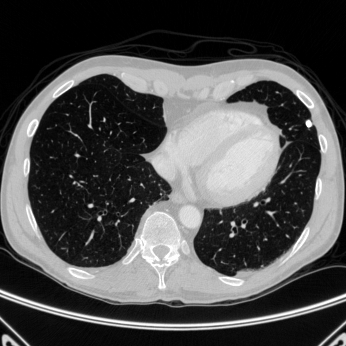nodule: (304, 120, 312, 128)
